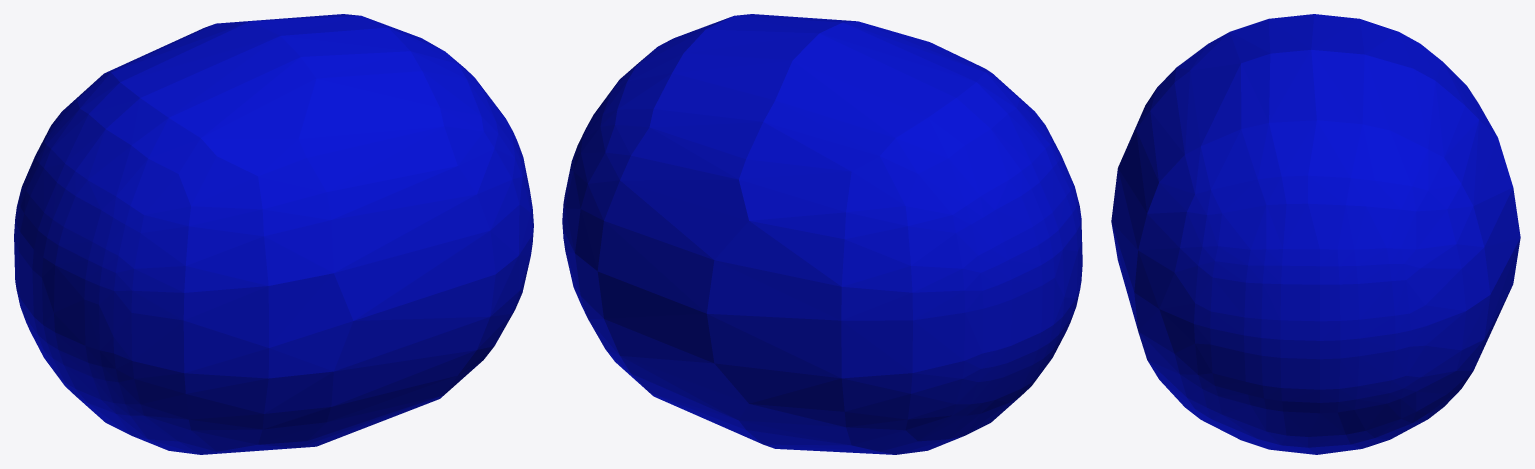
File: COL_hollie_real_015_collision.dae
3 views of the same model, side by side, from view 1: azimuth 30°, elevation 25°; view 2: azimuth 150°, elevation 25°; view 3: azimuth 270°, elevation 25° (orthographic). The views are drawn at different scales.
Visible parts, largest first — view 1: COL_hollie_real_015_collision; view 2: COL_hollie_real_015_collision; view 3: COL_hollie_real_015_collision.
Part boxes in pixels (left/top/right/bottom): COL_hollie_real_015_collision: left=14, top=14, right=533, bottom=454; COL_hollie_real_015_collision: left=562, top=14, right=1082, bottom=454; COL_hollie_real_015_collision: left=1111, top=14, right=1520, bottom=454.
Bounding box in the file's own units: 0.0697 × 0.0567 × 0.0571.
